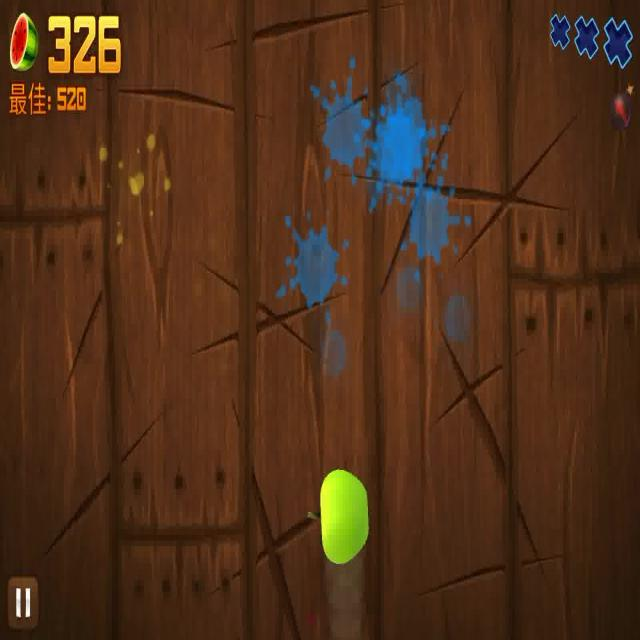fruit: (319, 470, 368, 567)
